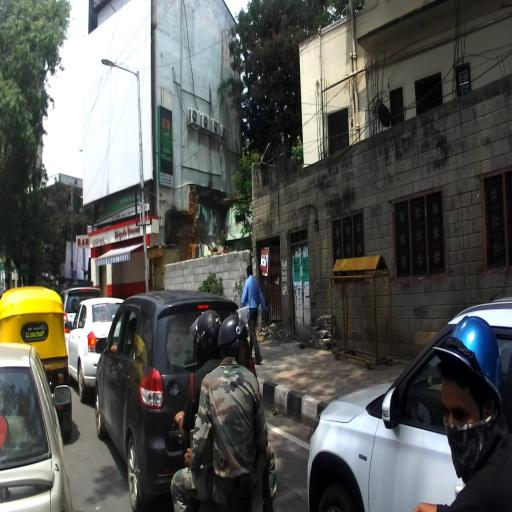street_light_0: (101, 58, 140, 79)
